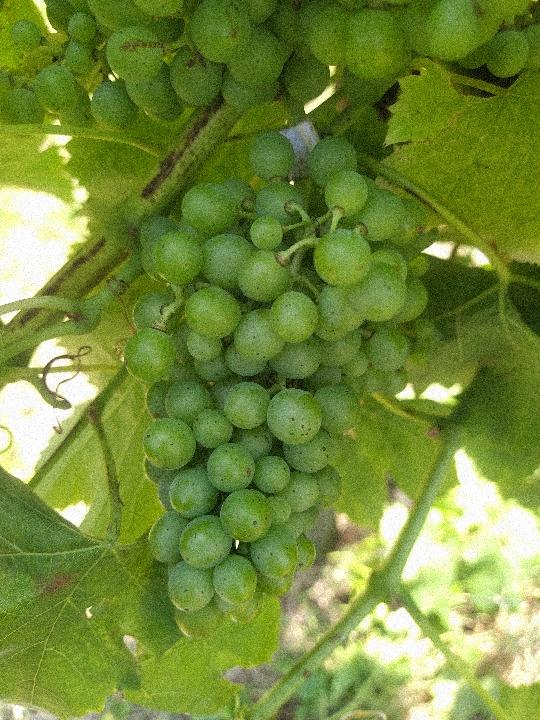grape: (120, 128, 430, 644)
